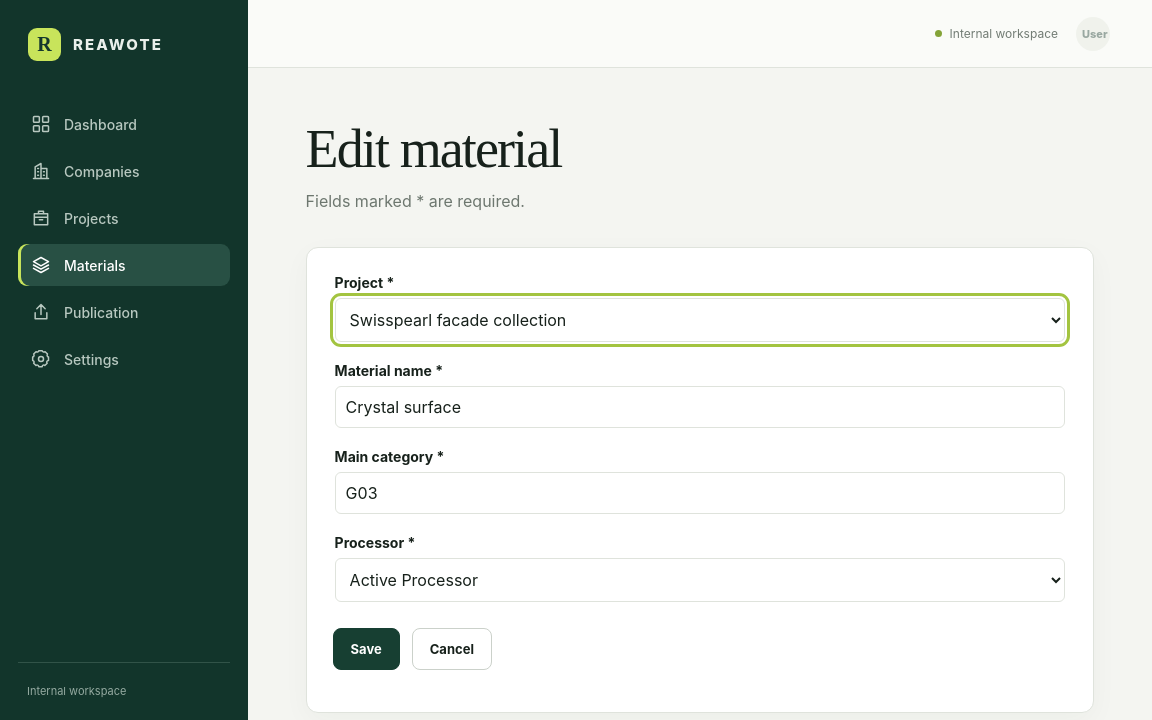
it: edits with a minimal PATCH and shows managed fields read-only
This screenshot has width=1152, height=720.
Step 1. Replace the text in the field labelled "Material name *" with "Updated surface" → (700, 407), box [335, 386, 1065, 428]
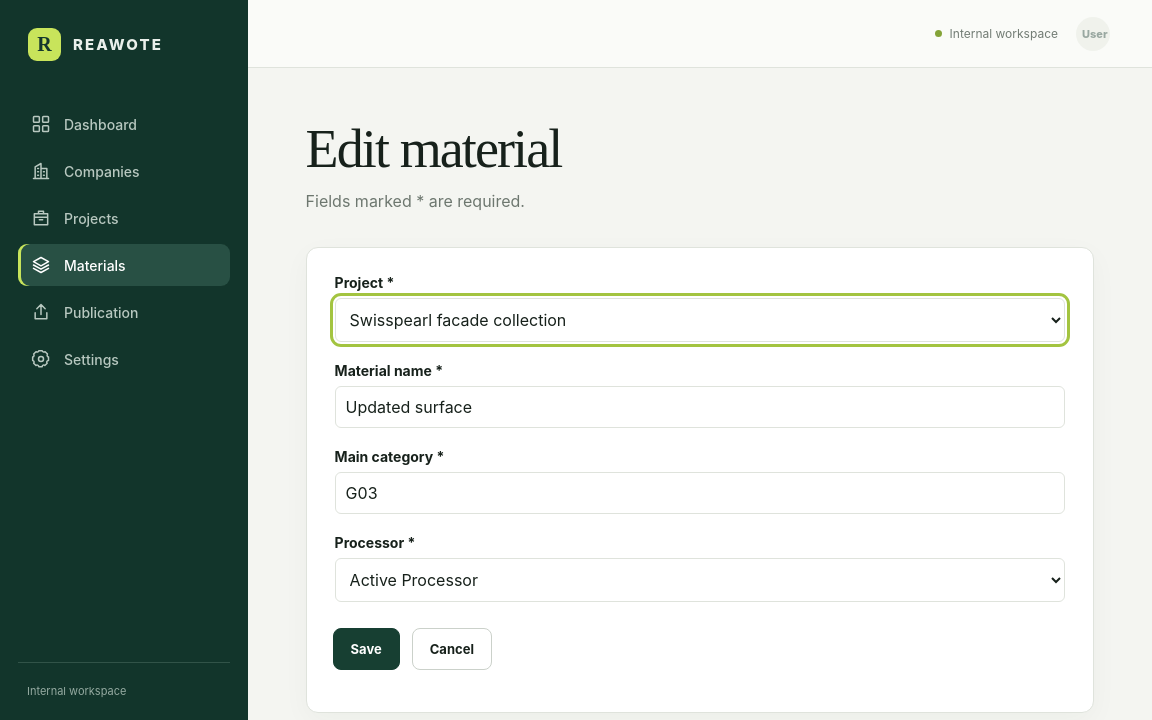
Step 2. Click the button "Save" → (366, 649), box [333, 628, 400, 670]
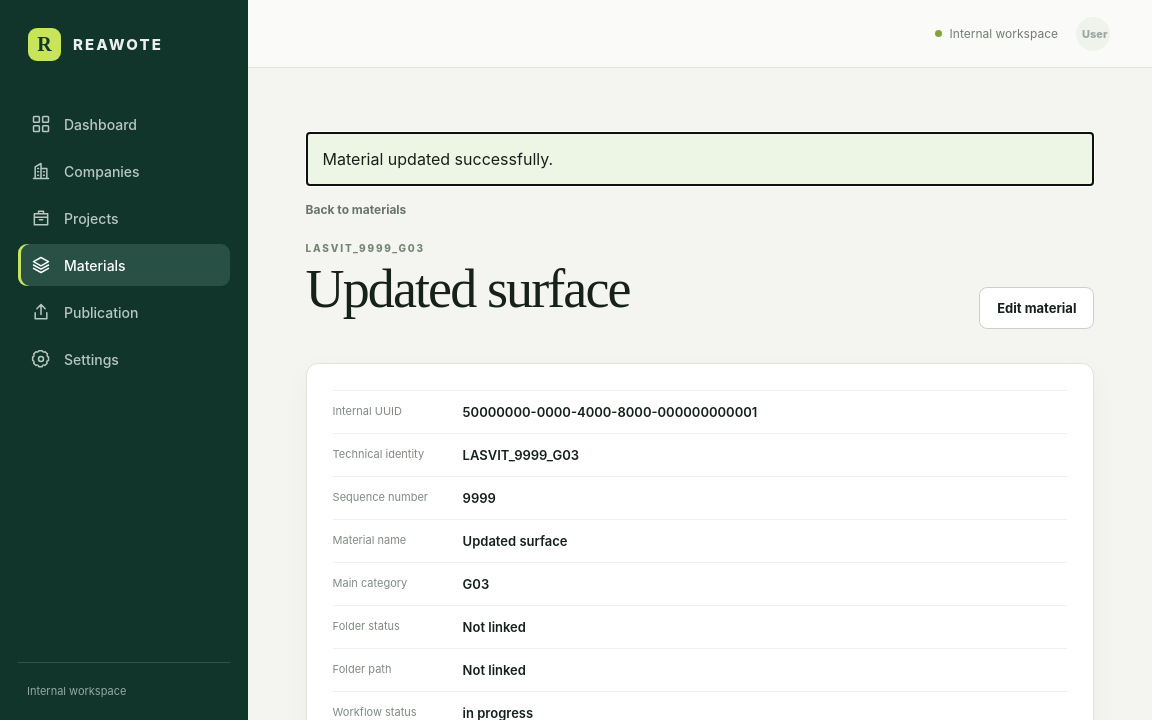
Expected: the text "Material updated successfully." is shown, [306, 132, 1094, 186]
